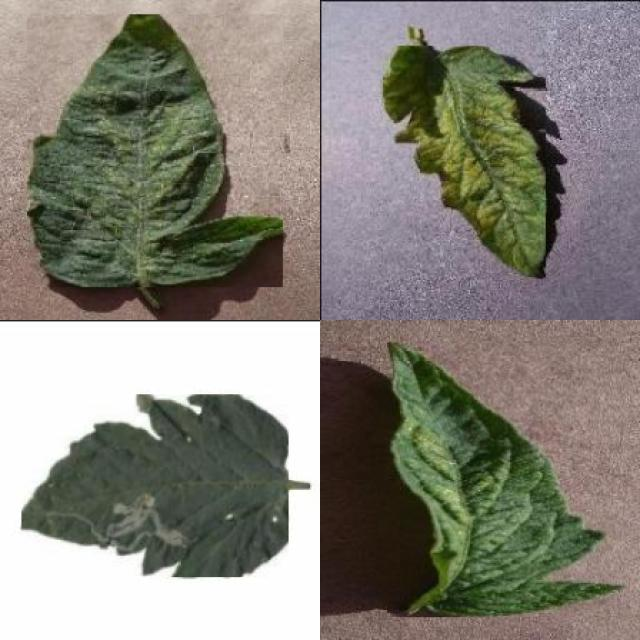Leaf Miner: (22, 394, 288, 577)
Mosaic Virus: (384, 45, 546, 278)
Spider Mites: (27, 14, 283, 287), (387, 337, 626, 617)
